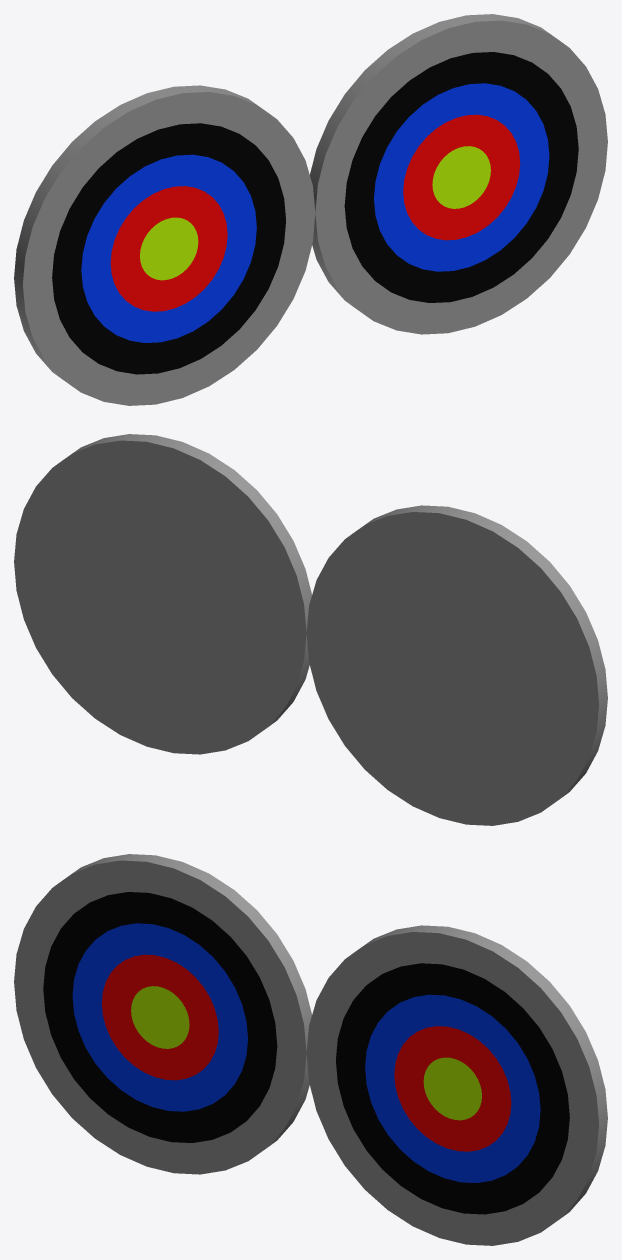
3 views of the same model, one above another, from view 1: azimuth 30°, elevation 25°; view 2: azimuth 150°, elevation 25°; view 3: azimuth 330°, elevation 25° (orthographic).
Visible parts, largest first — view 1: Cylinder009; view 2: Cylinder009; view 3: Cylinder009.
Part boxes in pixels (left/top/right/bottom): Cylinder009: left=14, top=14, right=607, bottom=405; Cylinder009: left=14, top=434, right=607, bottom=825; Cylinder009: left=14, top=854, right=607, bottom=1245.
Bounding box in the file's own units: 4 × 1.99 × 0.1046.
